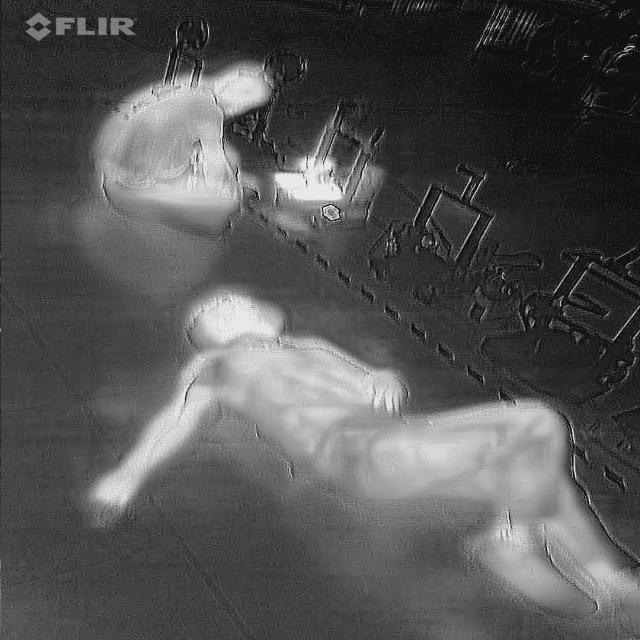Victim: (77, 279, 638, 632), (77, 53, 277, 235)
